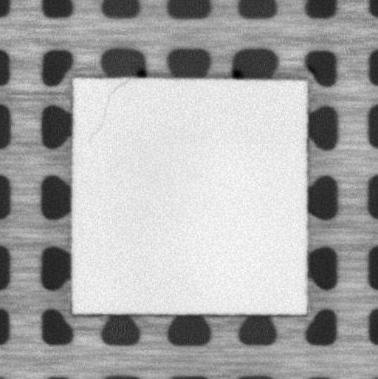DIE_CRACK: (84, 79, 129, 145)
